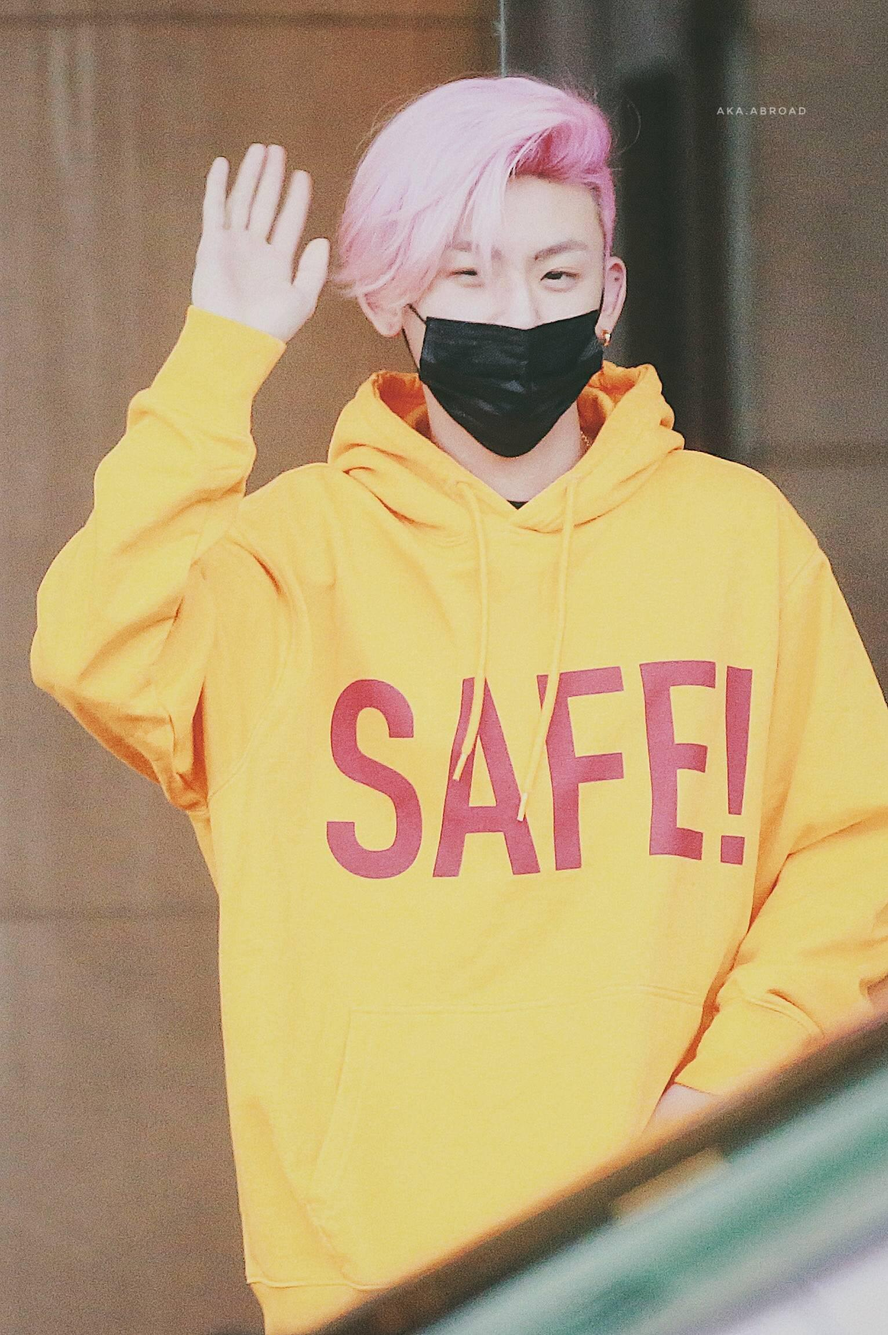WRONG: (405, 204, 605, 450)
